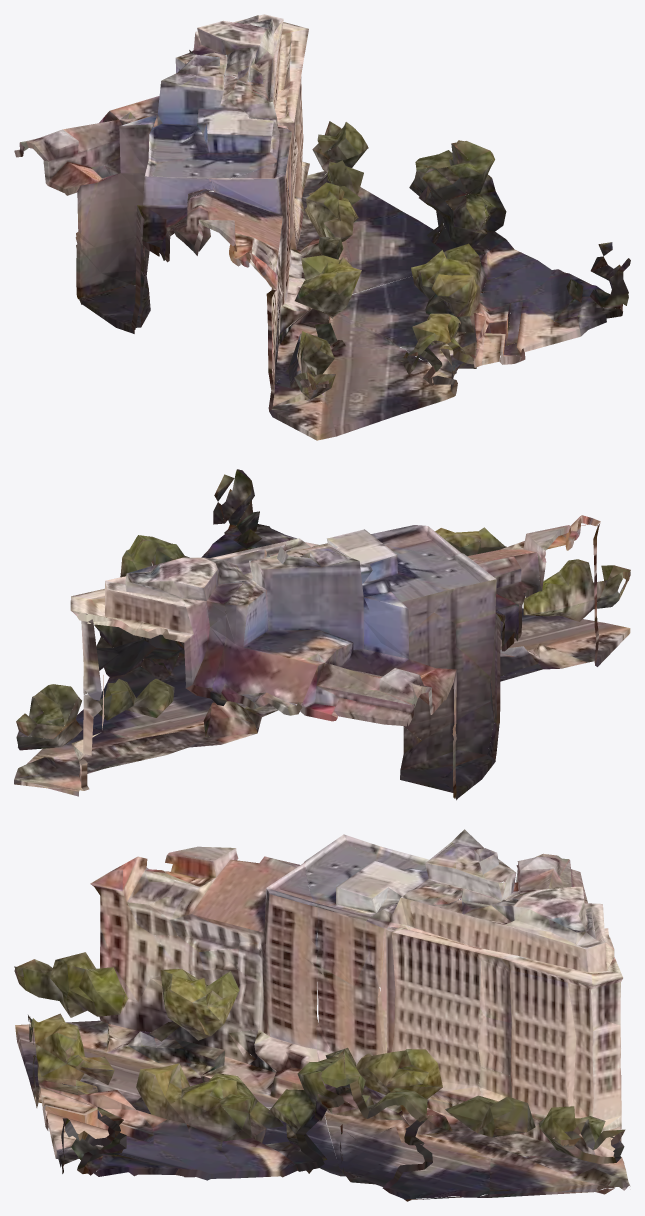
3 renders of one model, top to bottom at view 1: azimuth 30°, elevation 25°; view 2: azimuth 150°, elevation 25°; view 3: azimuth 270°, elevation 25°, orthographic. The views are drawn at different scales.
Parts seen in each view (by area): view 1: Mesh_0; view 2: Mesh_0; view 3: Mesh_0.
Boxes of the visible parts, x1=… form: Mesh_0: x1=14, y1=14, x2=630, y2=440; Mesh_0: x1=14, y1=469, x2=630, y2=800; Mesh_0: x1=14, y1=829, x2=630, y2=1201.
Size of the model in its own units: 66.56 by 35.02 by 82.68.
Materials: 2 (2 with a texture image).
